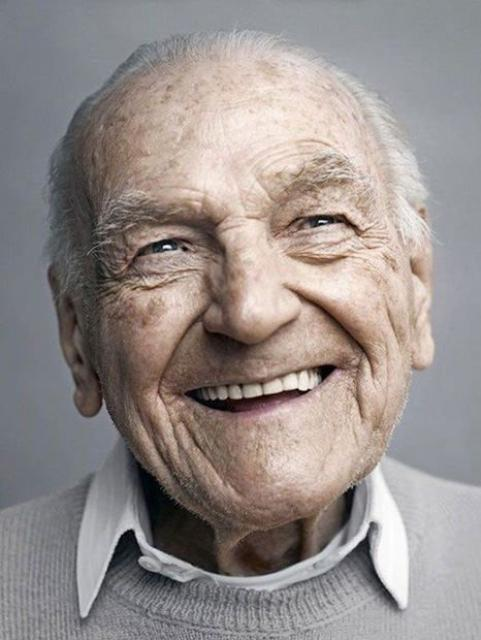crows_feet: (354, 217, 394, 253), (95, 262, 135, 296)
forehead: (280, 132, 334, 154)
frown_line: (212, 206, 270, 234)
gummy_smile: (294, 288, 368, 342), (154, 313, 208, 379)
masseter: (384, 304, 406, 348)
sad_smile: (154, 392, 202, 454), (344, 357, 378, 427)
